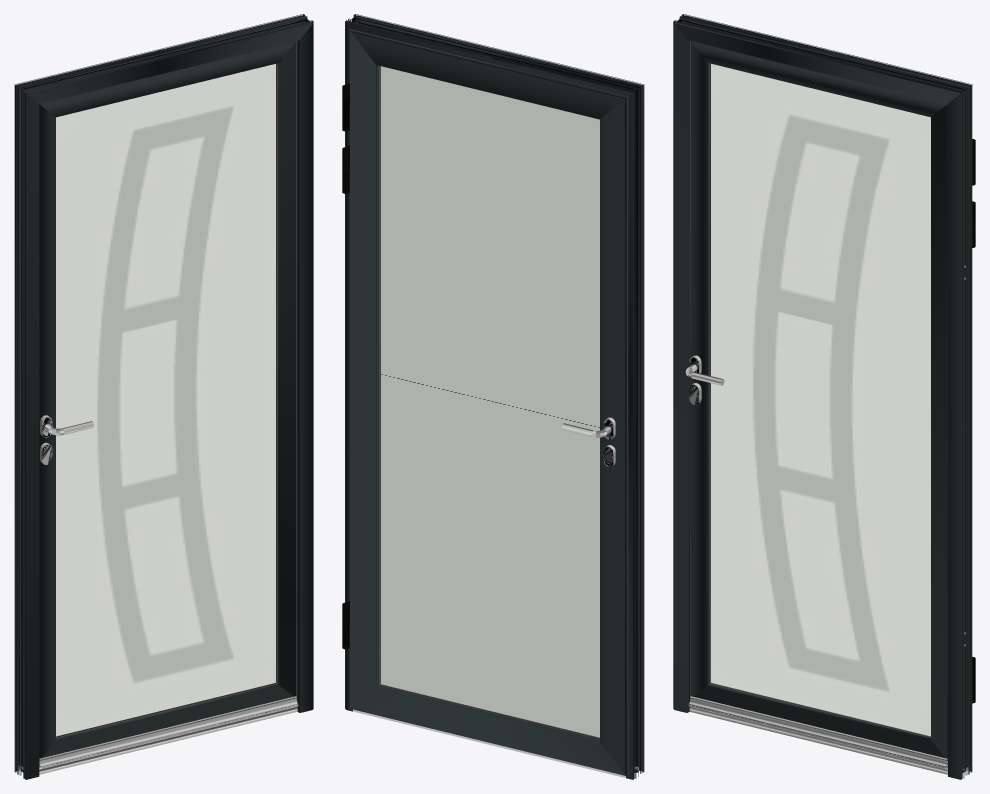
3 views of the same model, side by side, from view 1: azimuth 30°, elevation 25°; view 2: azimuth 150°, elevation 25°; view 3: azimuth 330°, elevation 25° (orthographic).
Parts seen in each view (by area): view 1: ouvrant, 30_architect; view 2: ouvrant, 30_architect; view 3: ouvrant, 30_architect.
Boxes of the visible parts, x1,y1,x2,y2 form: ouvrant: (20,21,298,768); 30_architect: (14,14,313,779); ouvrant: (342,29,628,776); 30_architect: (342,14,644,779); ouvrant: (688,21,975,768); 30_architect: (673,14,975,779).
Size of the model in its own units: 96 by 218 by 20.21.
1 material, 1 textured.
